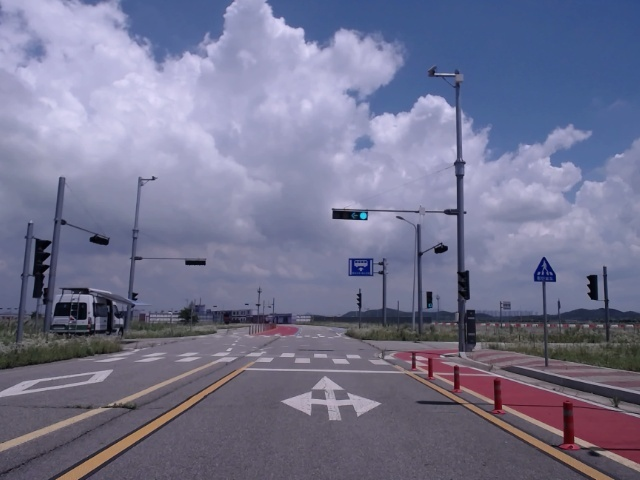all_green_4: (333, 210, 368, 221)
